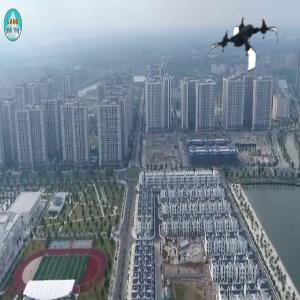drone: (212, 9, 280, 77)
